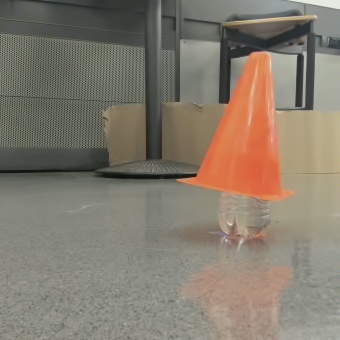Cone: (216, 39, 310, 181)
